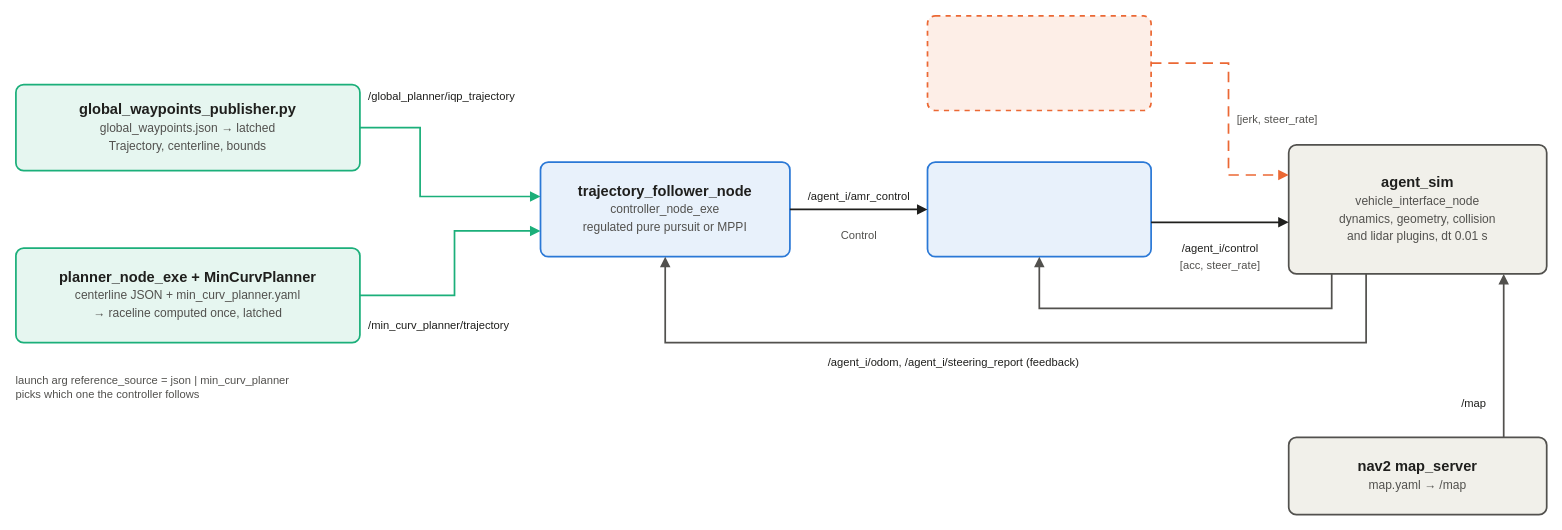
Image size: 1562x530. Some labels were removed from this diagram. The shapes that lost their labels are listed below. From the top down, each one's box as (x1, y1, x2, y2) in pixels, then its label:
(926, 15, 1152, 111): External controller racing_rl scenario only (controller: none)
(926, 161, 1152, 257): pid_controller target speed + steering → [acc, steer_rate]
